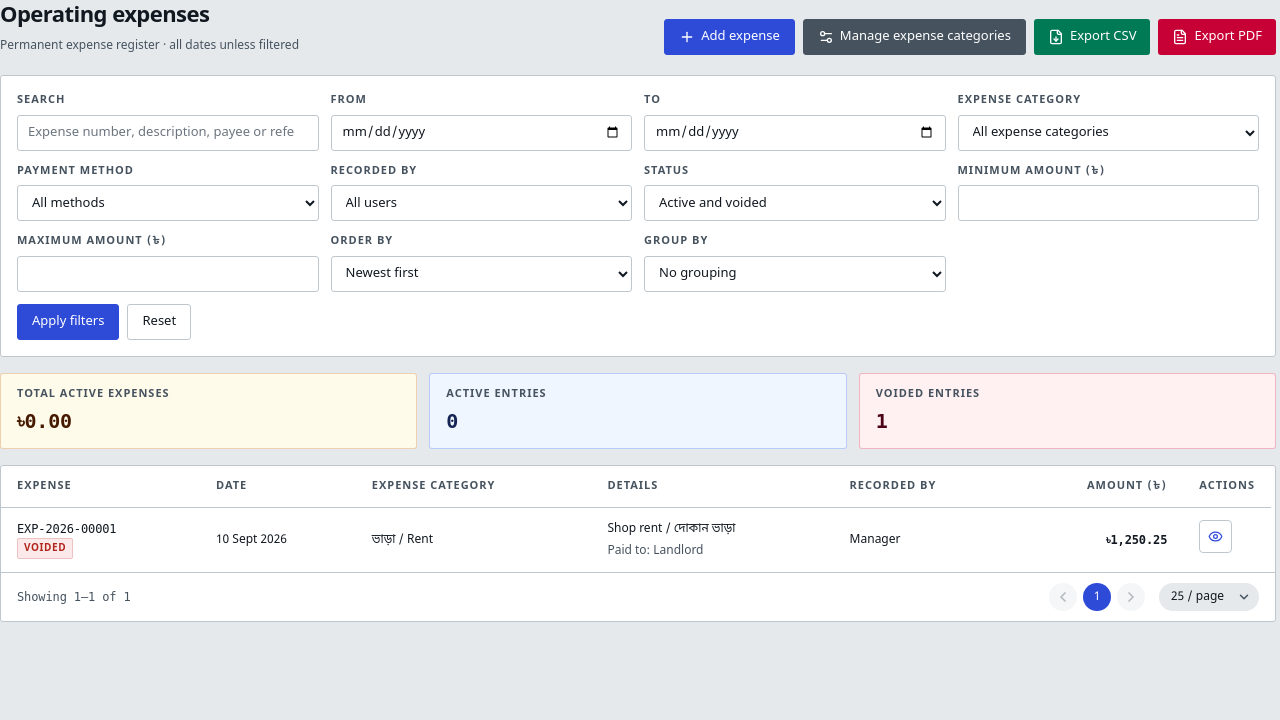
it: shows voided notes in read-only details and keeps manager void controls unavailable
Click the button named "View details EXP-2026-00001": click(1216, 536) [1199,520,1232,553]
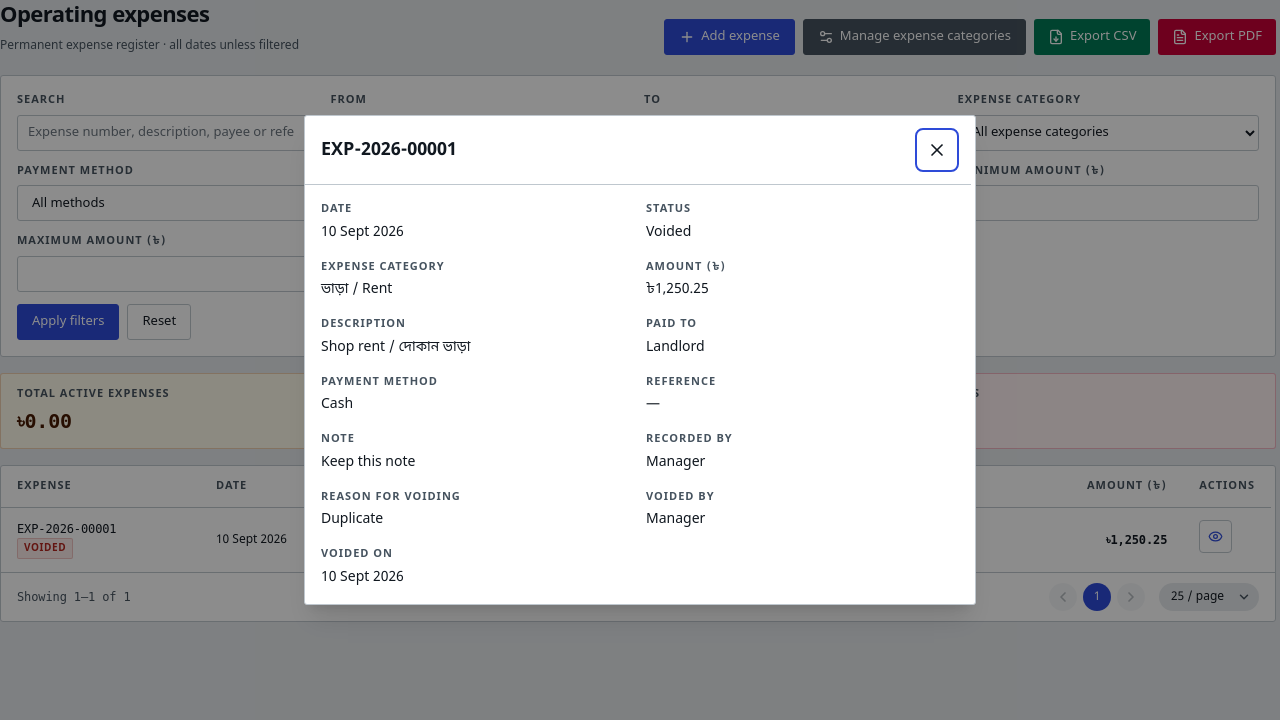
Check: the dialog shows "Keep this note", box [321,453,416,472]
Check: the dialog shows "Duplicate", box [321,510,383,529]
Check: the dialog shows "Manager", box [646,453,705,472]
